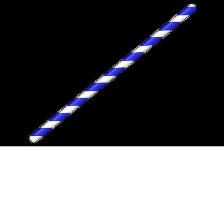drinking_straw: (23, 0, 199, 146)
